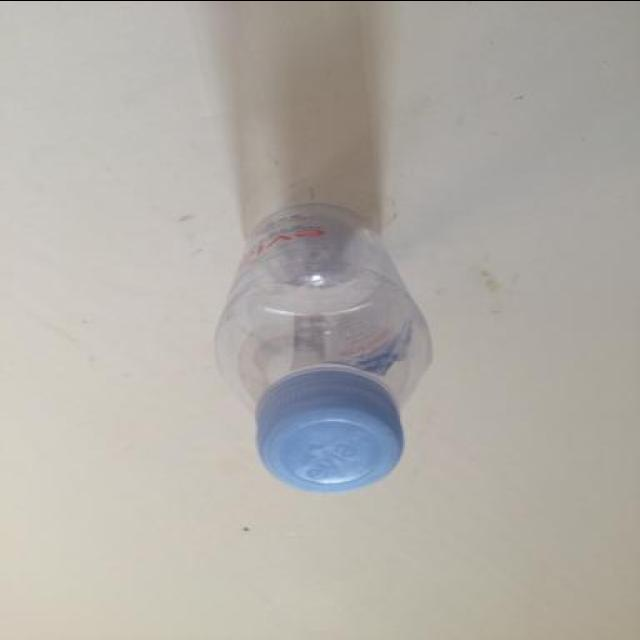litter: (213, 204, 445, 492)
